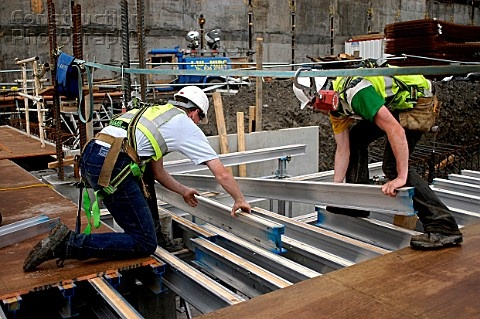white: (292, 67, 330, 113), (173, 81, 210, 126)
